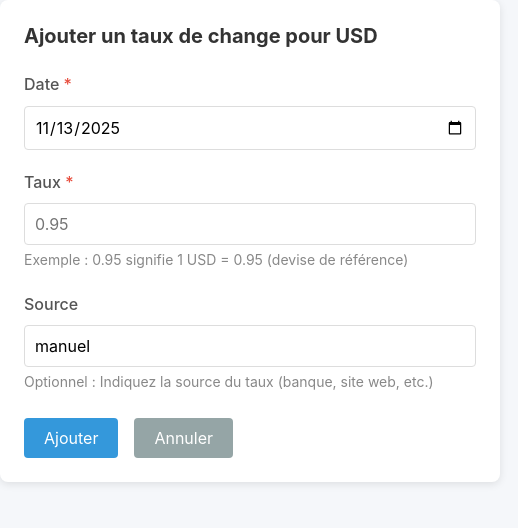
Test: ExchangeRateForm - Mode Add › devrait afficher les erreurs de validation
Note: Soumettre avec un taux invalide
Type "0" into the number field labelled "Taux *" at (250, 224), box [24,203,476,245]
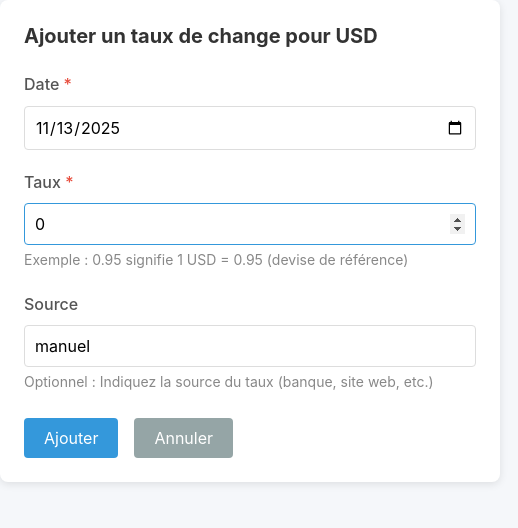
Click the button "Ajouter" at (71, 438), box [24,418,118,458]
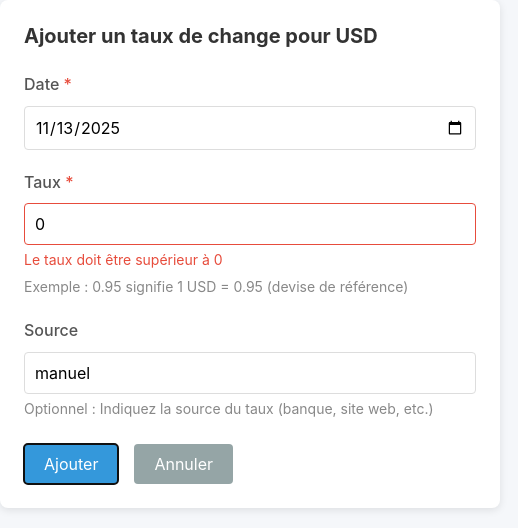
Check: the text "Le taux doit être supérieur à 0" is shown, box [24,251,223,268]
